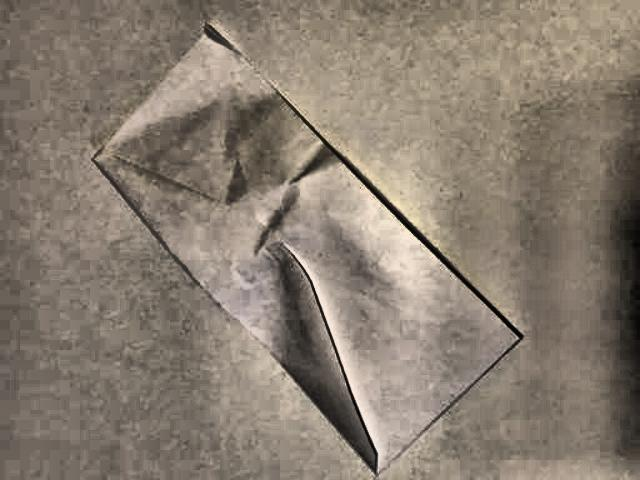Paper: (77, 20, 528, 480)
